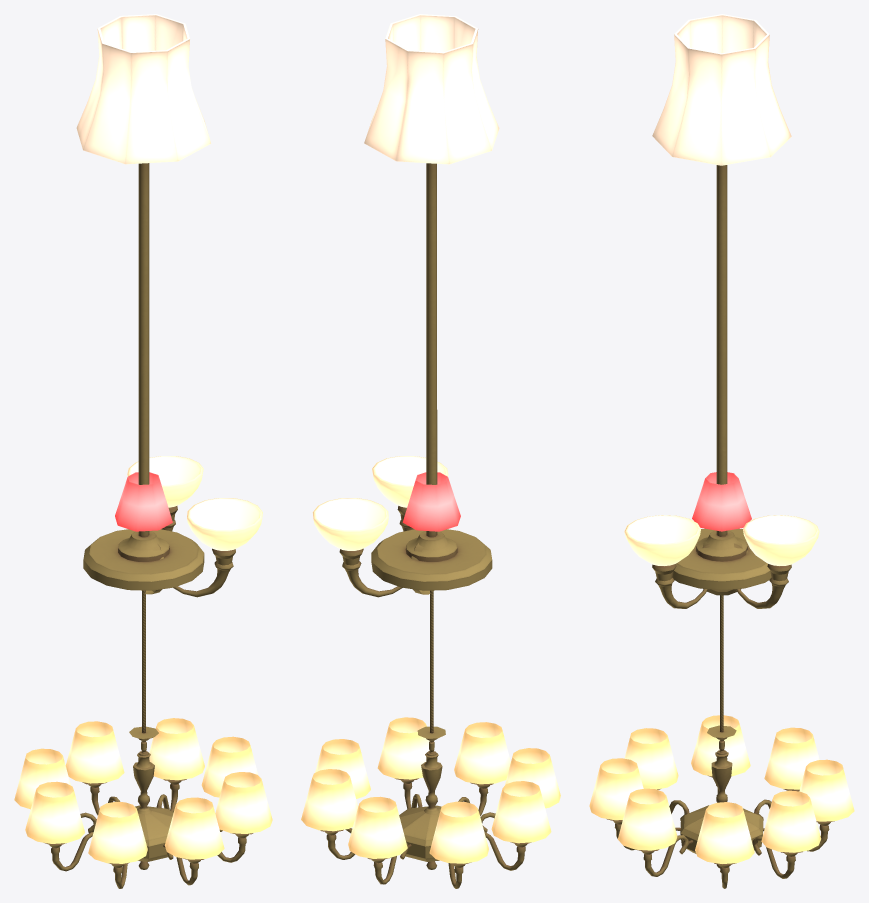
File: Lamps.fbx
The picture shows the model from 3 angles, left to right: view 1: azimuth 30°, elevation 25°; view 2: azimuth 150°, elevation 25°; view 3: azimuth 270°, elevation 25°; orthographic projection.
Parts seen in each view (by area): view 1: Chand, StandingLamp, Sconce, Table_Lamp; view 2: Chand, StandingLamp, Sconce, Table_Lamp; view 3: Chand, StandingLamp, Sconce, Table_Lamp.
Part boxes in pixels (box(x1,y1,x2,y2)): Chand: box(14, 590, 272, 888); StandingLamp: box(76, 14, 211, 590); Sconce: box(127, 456, 262, 597); Table_Lamp: box(115, 472, 172, 531); Chand: box(301, 590, 560, 888); StandingLamp: box(364, 14, 499, 590); Sconce: box(312, 456, 448, 597); Table_Lamp: box(402, 472, 460, 531); Chand: box(589, 595, 854, 888); StandingLamp: box(652, 14, 791, 590); Sconce: box(624, 515, 819, 608); Table_Lamp: box(692, 472, 751, 531).
Bounding box in the file's own units: 66.67 × 231 × 66.61.
1 material, 1 textured.
